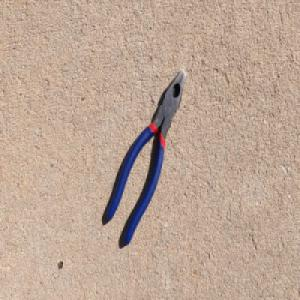Pliers: (104, 66, 187, 250)
